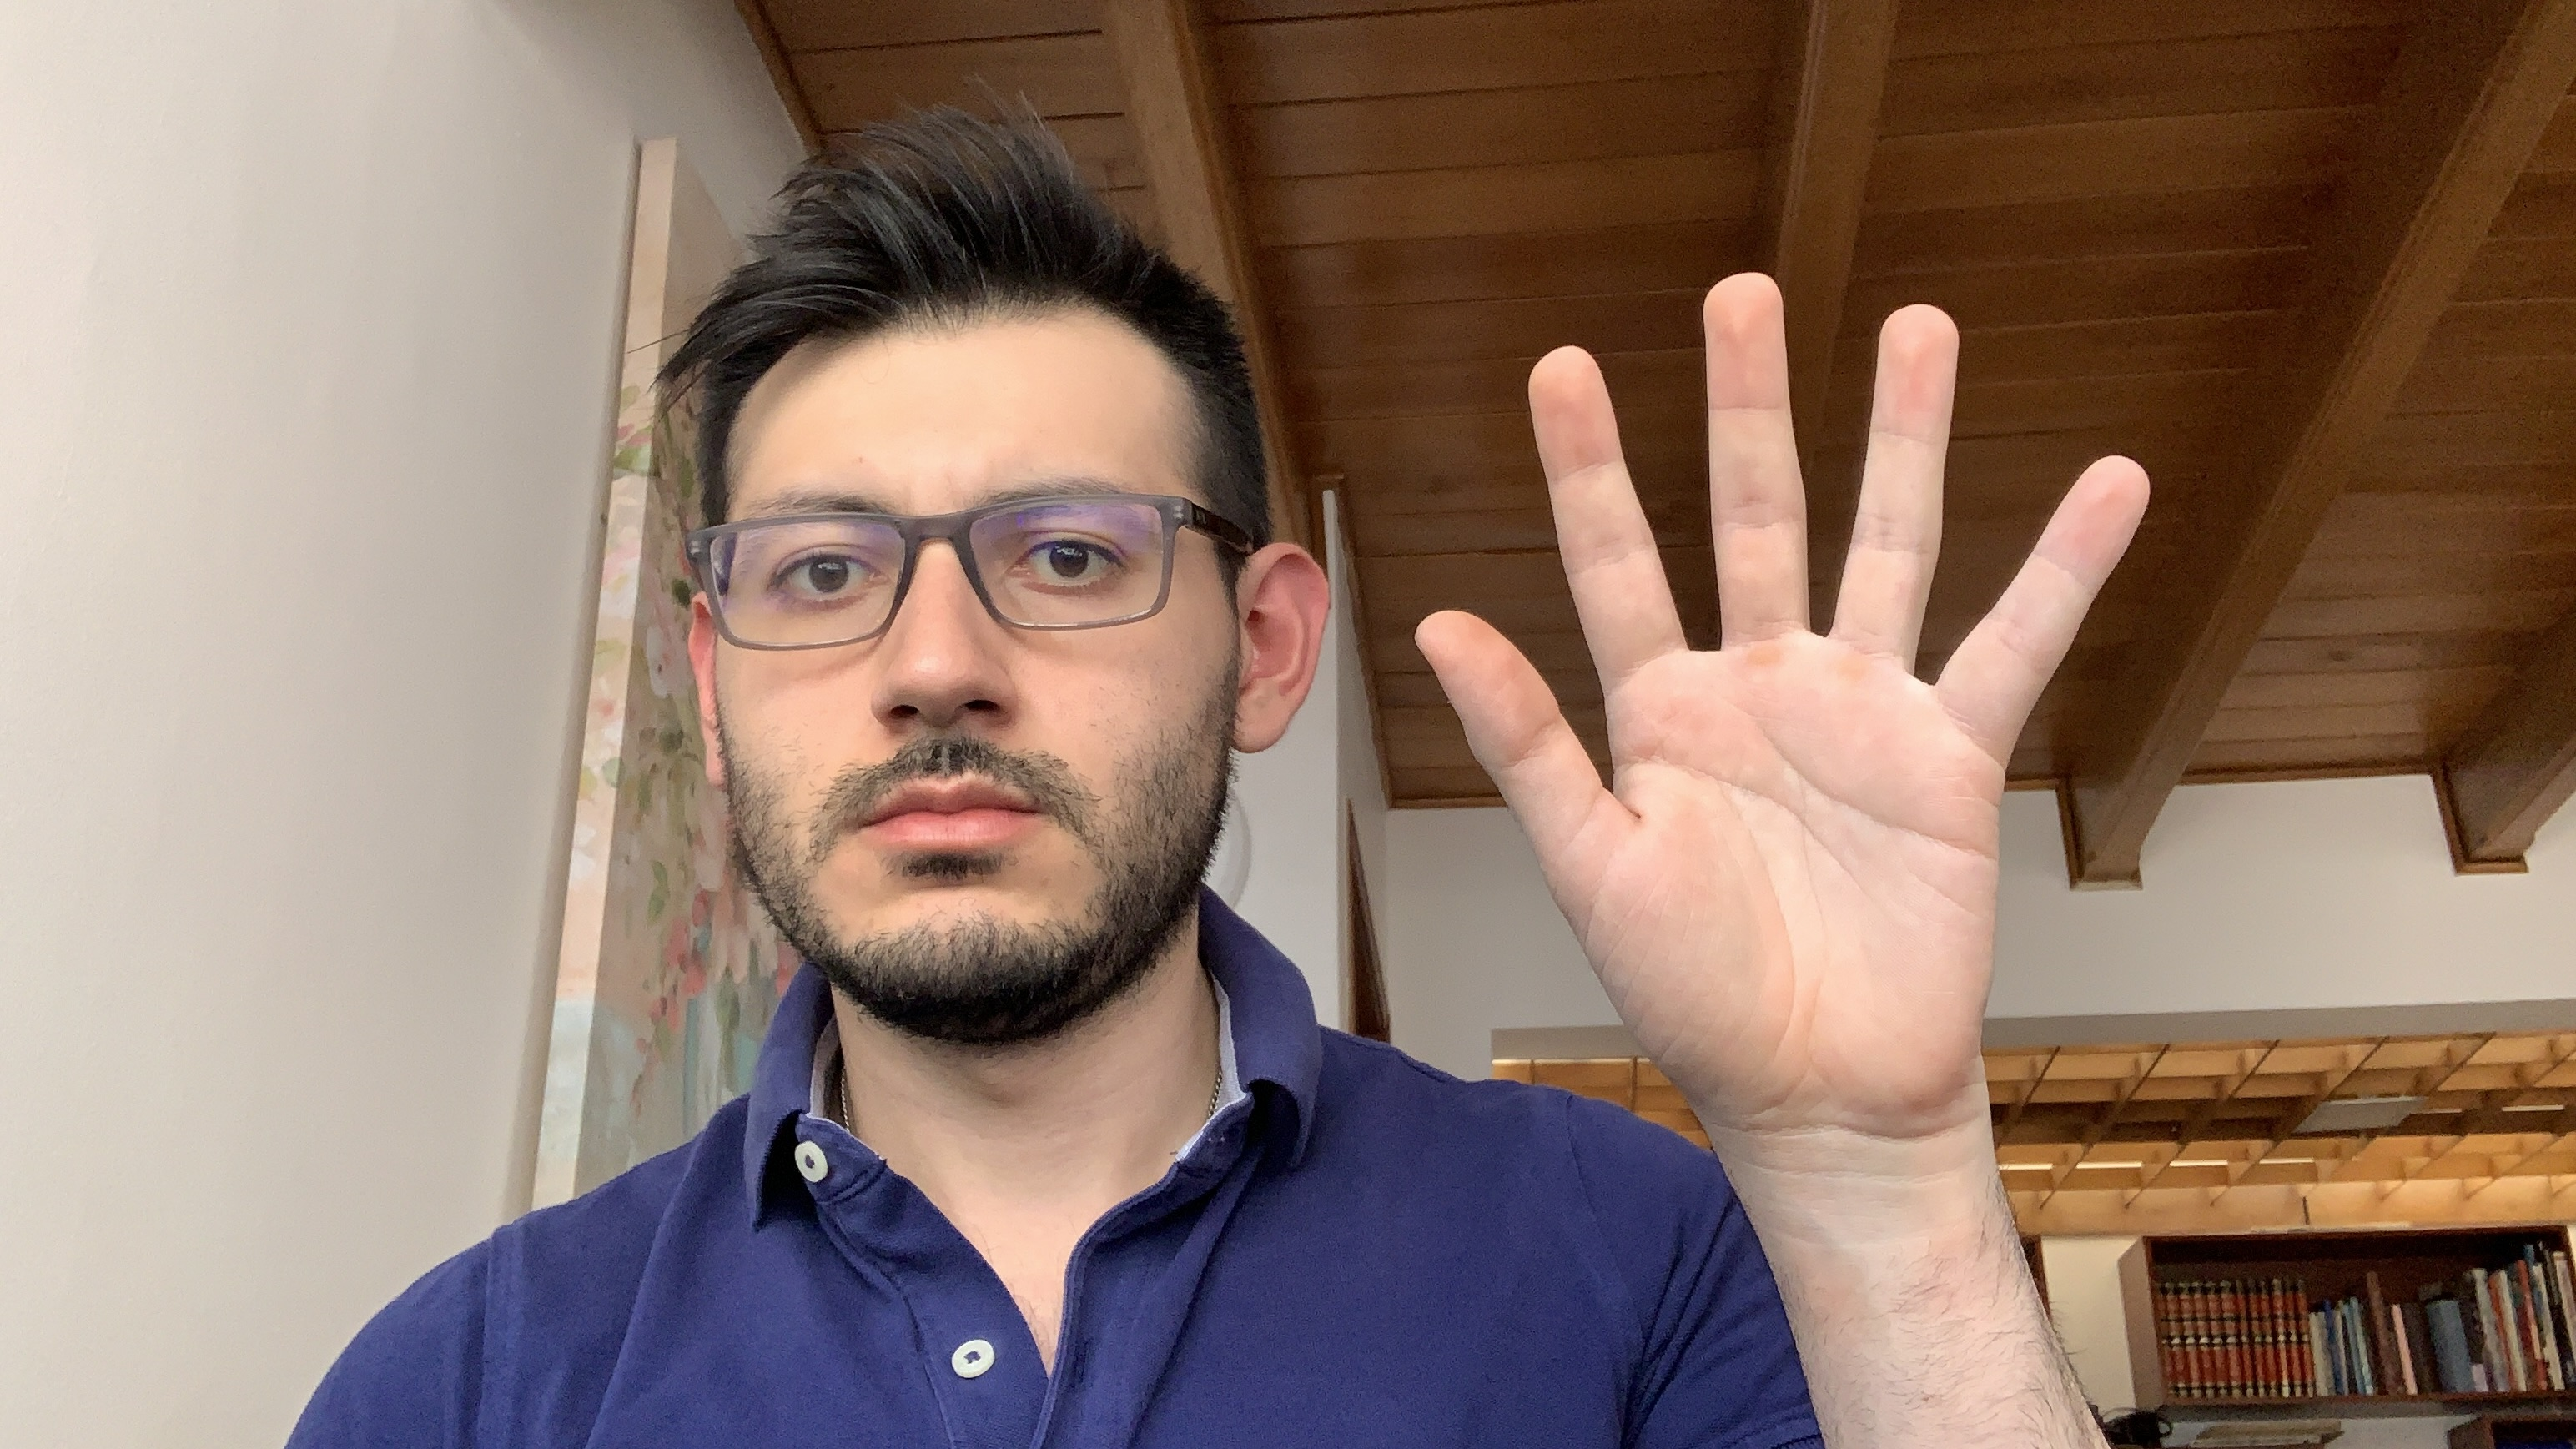Hello: (1398, 255, 2206, 1159)
